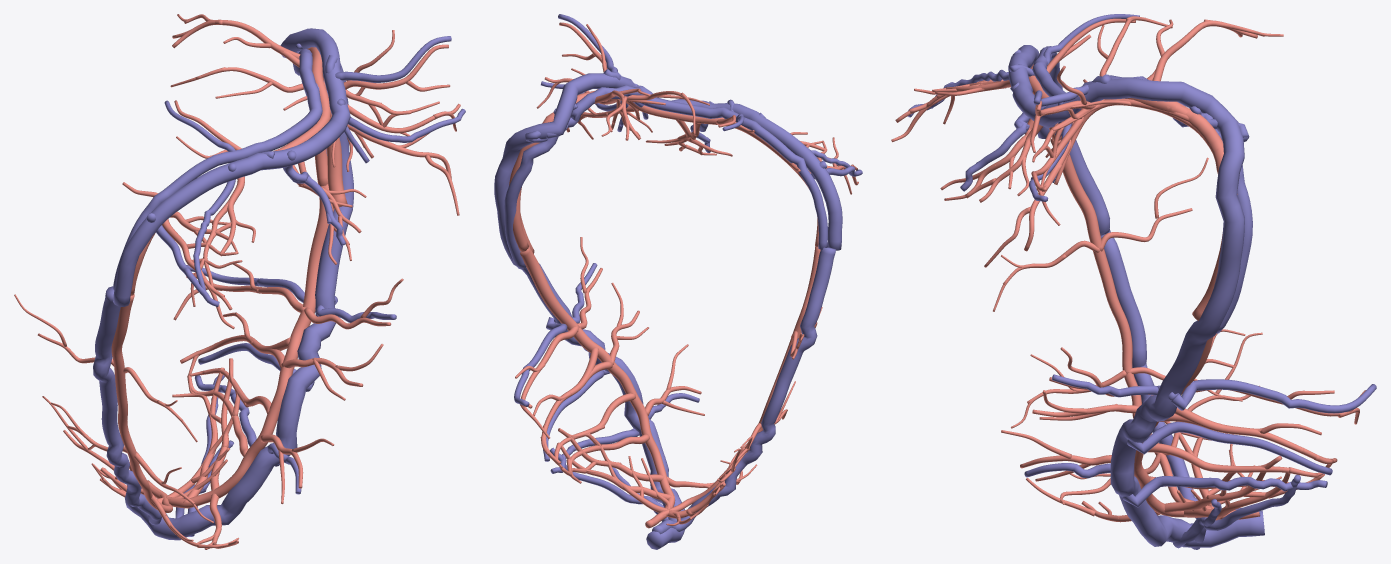
File: vessels_66.glb
The picture shows the model from 3 angles, left to right: view 1: azimuth 30°, elevation 25°; view 2: azimuth 150°, elevation 25°; view 3: azimuth 270°, elevation 25°; orthographic projection. The views are drawn at different scales.
Visible parts, largest first — view 1: Renderer Node; view 2: Renderer Node; view 3: Renderer Node.
Boxes of the visible parts, x1=… form: Renderer Node: x1=14, y1=14, x2=465, y2=549; Renderer Node: x1=494, y1=14, x2=862, y2=549; Renderer Node: x1=891, y1=14, x2=1376, y2=549.
Bounding box in the file's own units: 95.13 × 124 × 95.58.
